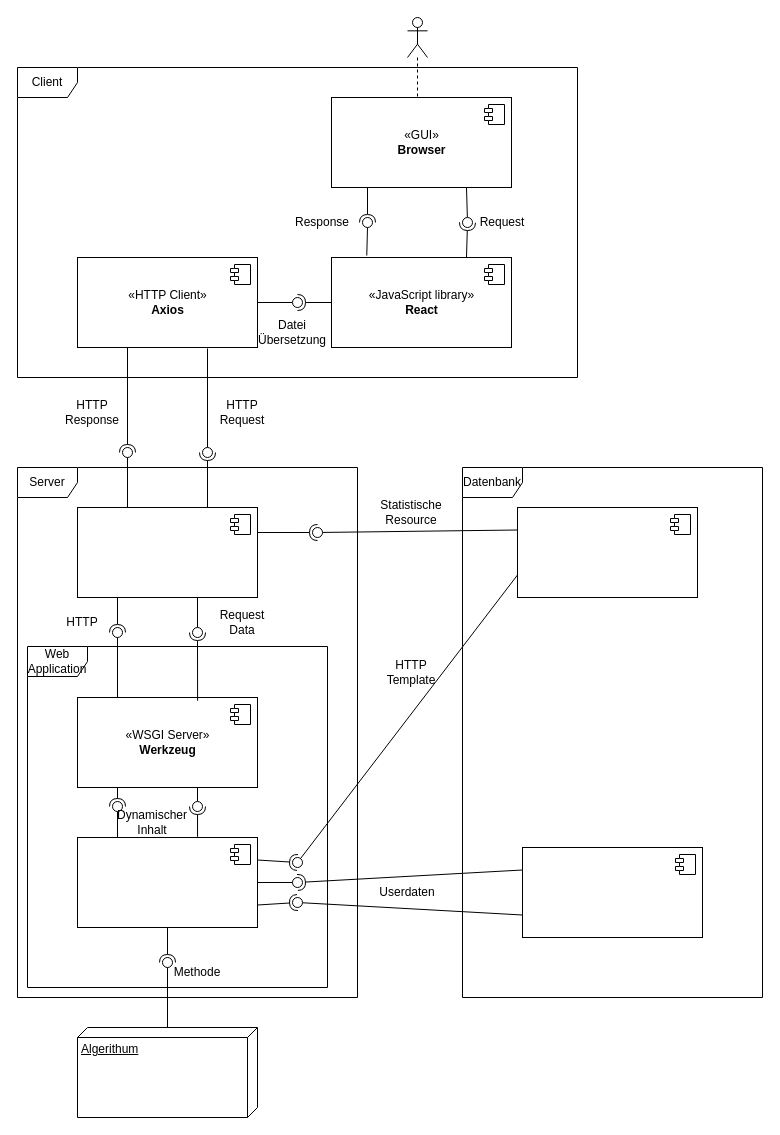
Image size: 780x1135. Some labels were removed from this diagram. The shapes that lost their labels are listed below. From the top down, each one's box as (x1, y1, x2, y2) in pixels, then its label:
(76, 506, 258, 598): «Web Server» NGINX
(516, 506, 698, 598): «Datenbank» Aufgaben
(76, 836, 258, 928): «Framework» Flask
(522, 846, 702, 938): «Datenbank» Userkonten
